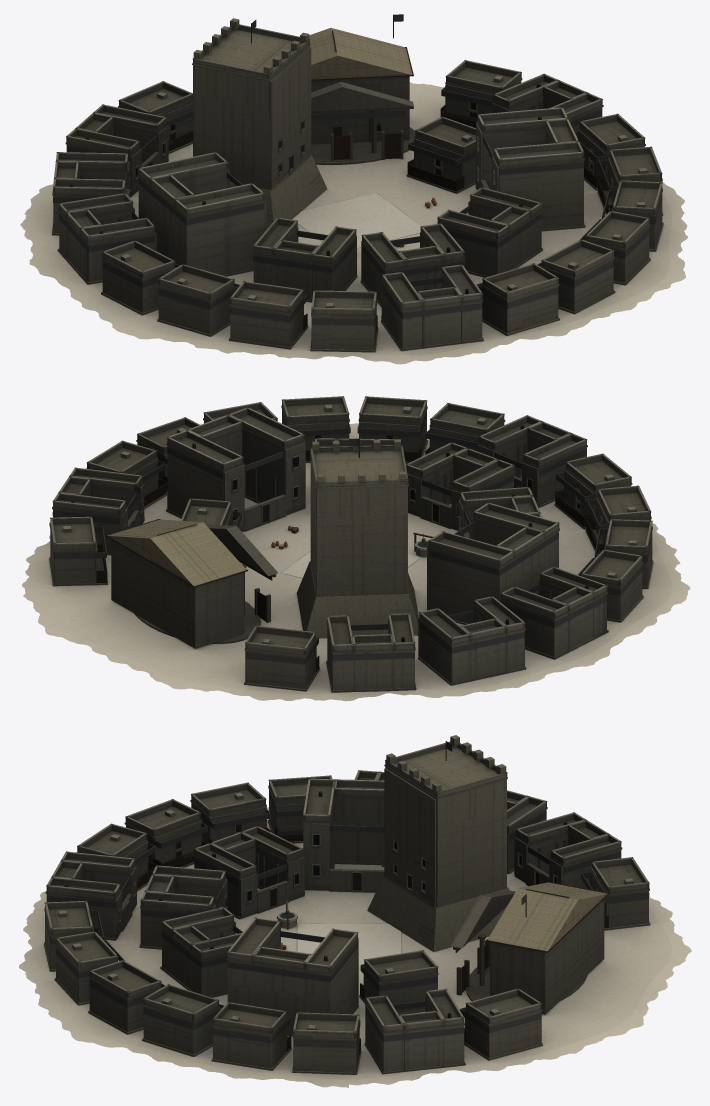
Rendered from classical-town-big-b-israelite.glb.
3 renders of one model, top to bottom at view 1: azimuth 30°, elevation 25°; view 2: azimuth 150°, elevation 25°; view 3: azimuth 270°, elevation 25°, orthographic.
Parts seen in each view (by area): view 1: LOD0; view 2: LOD0; view 3: LOD0.
Part boxes in pixels (x1,y1,x2,y2): LOD0: [20, 14, 687, 364]; LOD0: [22, 396, 690, 701]; LOD0: [19, 735, 691, 1087].
Size of what is drawn, in the model's own units: 7.94 by 2.3 by 7.92.
3 materials, 3 textured.
